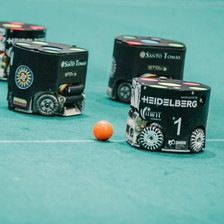ball: (91, 118, 113, 141)
robot: (6, 35, 90, 118), (124, 75, 211, 155), (105, 34, 186, 82), (1, 21, 47, 42)
